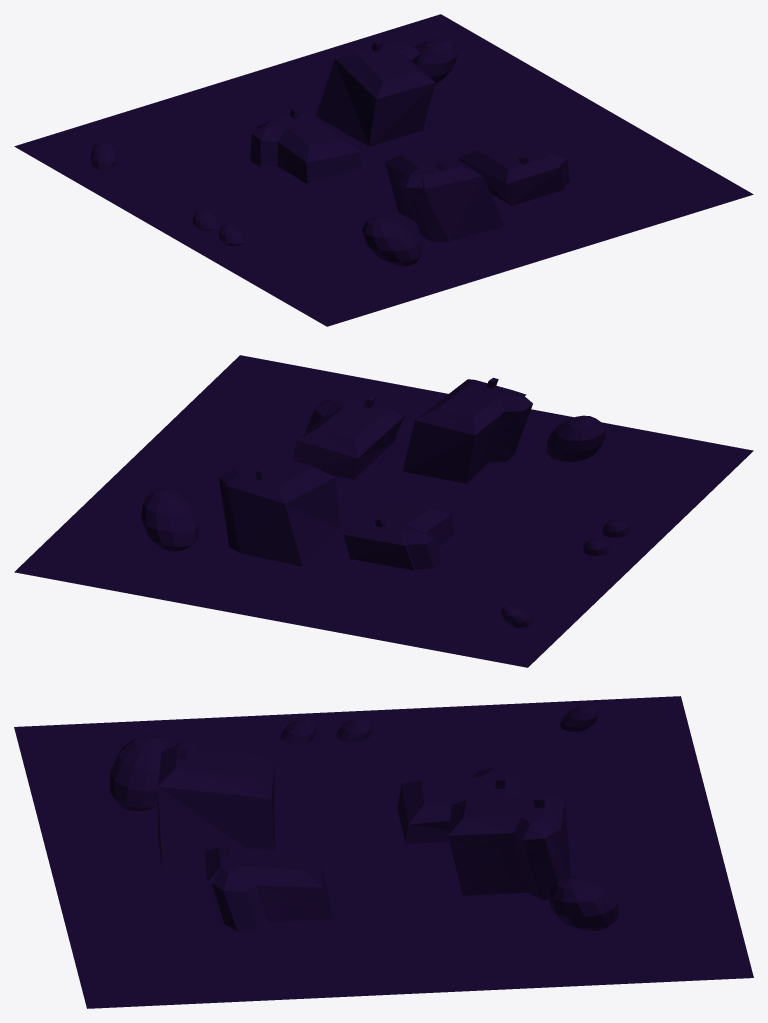
File: smallerhouses_oozed.FBX
3 views of the same model, one above another, from view 1: azimuth 30°, elevation 25°; view 2: azimuth 150°, elevation 25°; view 3: azimuth 270°, elevation 25° (orthographic). The views are drawn at different scales.
Visible parts, largest first — view 1: Layer:street, Layer:greenery, Layer:0, Layer:bldgconcrete, Layer:bluegouse, Layer:rowhouse1, Layer:rowhouse3, Layer:rowhouse2, Layer:windows; view 2: Layer:street, Layer:greenery, Layer:0, Layer:bluegouse, Layer:bldgconcrete, Layer:rowhouse1, Layer:rowhouse3, Layer:rowhouse2, Layer:windows; view 3: Layer:street, Layer:greenery, Layer:0, Layer:bldgconcrete, Layer:rowhouse1, Layer:bluegouse, Layer:windows, Layer:rowhouse2, Layer:rowhouse3.
Part boxes in pixels (x1,y1,x2,y2): Layer:street: (14, 14, 753, 326); Layer:greenery: (90, 37, 624, 281); Layer:0: (117, 40, 634, 289); Layer:bldgconcrete: (53, 32, 629, 262); Layer:bluegouse: (316, 53, 435, 146); Layer:rowhouse1: (385, 162, 504, 242); Layer:rowhouse3: (250, 126, 361, 183); Layer:rowhouse2: (459, 158, 569, 205); Layer:windows: (251, 148, 568, 236); Layer:street: (14, 355, 753, 667); Layer:greenery: (114, 390, 660, 627); Layer:0: (105, 377, 660, 627); Layer:bluegouse: (218, 477, 340, 566); Layer:bldgconcrete: (126, 372, 695, 650); Layer:rowhouse1: (402, 404, 532, 483); Layer:rowhouse3: (343, 514, 453, 570); Layer:rowhouse2: (292, 409, 404, 479); Layer:windows: (222, 415, 527, 567); Layer:street: (14, 696, 753, 1008); Layer:greenery: (99, 704, 659, 971); Layer:0: (98, 737, 651, 973); Layer:bldgconcrete: (52, 718, 697, 992); Layer:rowhouse1: (158, 766, 274, 873); Layer:bluegouse: (448, 799, 570, 899); Layer:windows: (218, 844, 567, 923); Layer:rowhouse2: (207, 861, 333, 931); Layer:rowhouse3: (397, 784, 449, 843).
Bounding box in the file's own units: 4447 × 603 × 4447.
